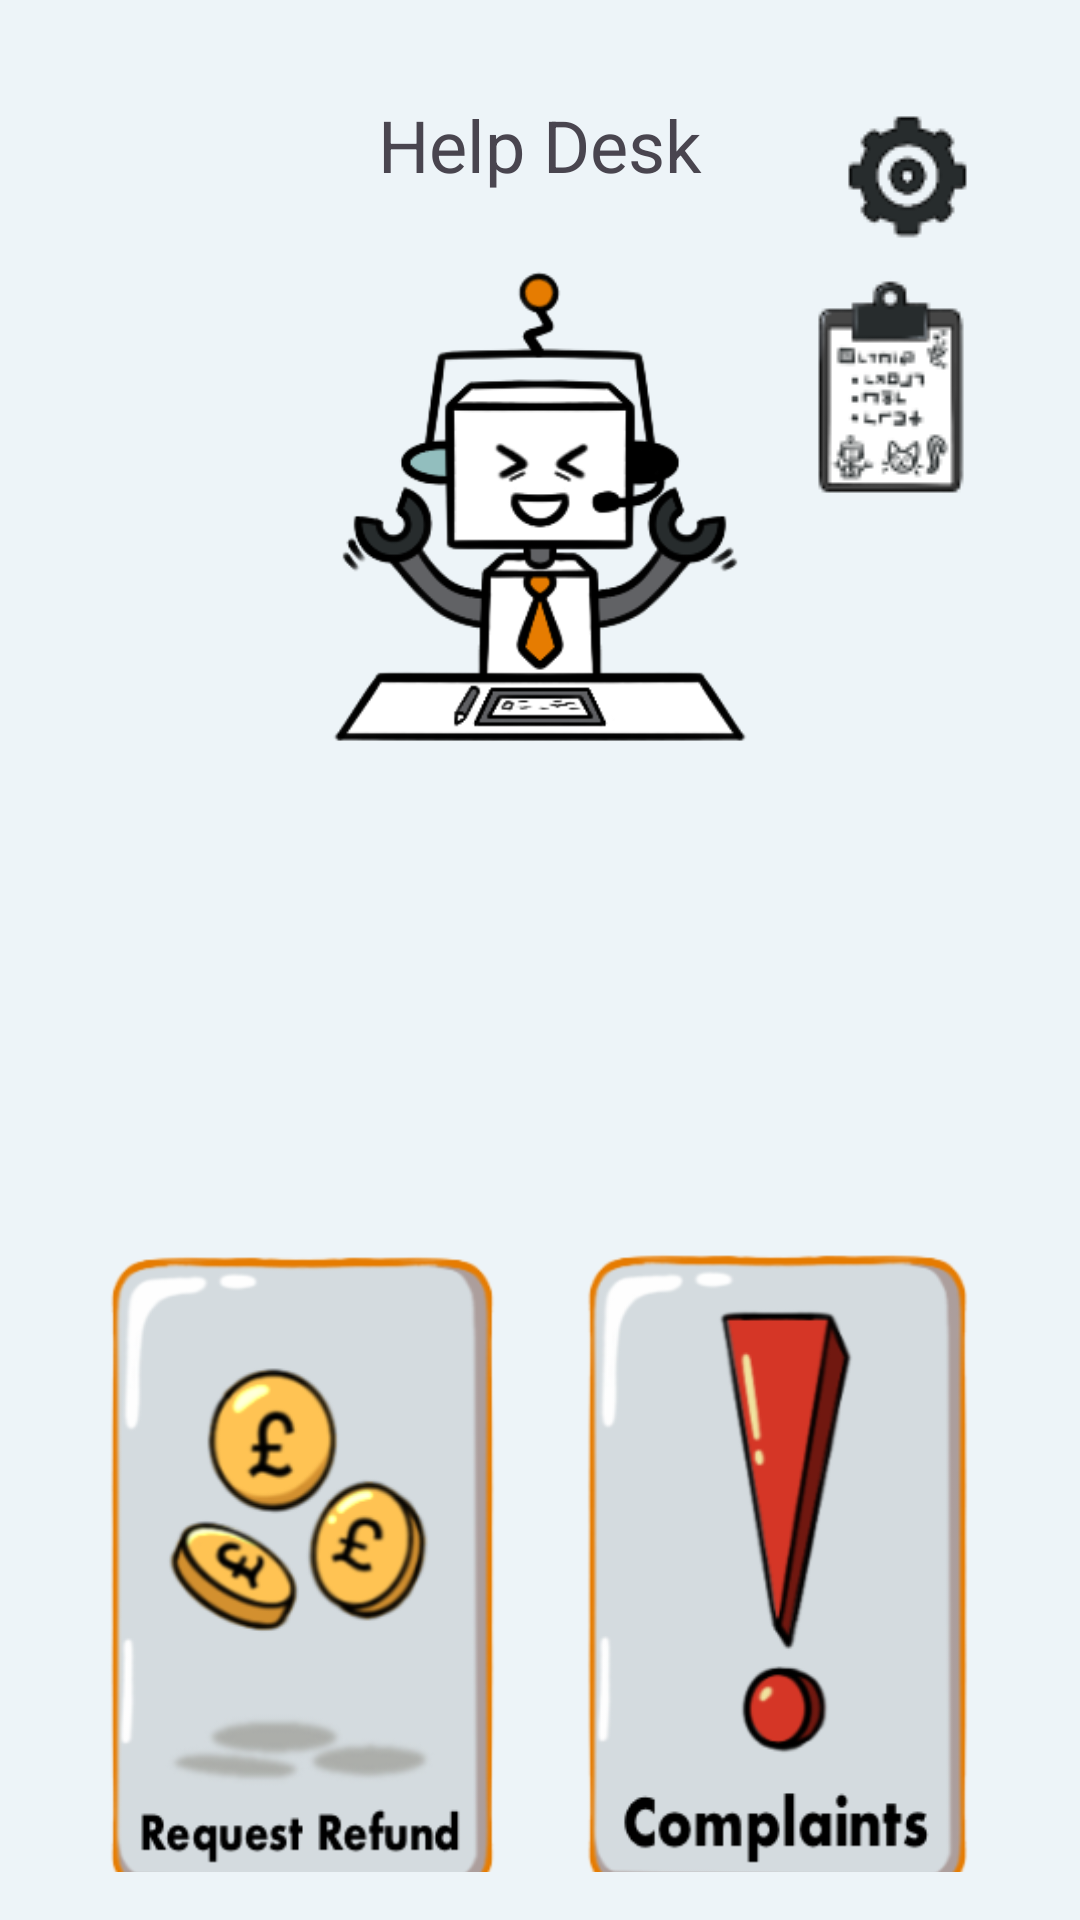

Point at icon controls on the screen. Image size 1080 x 1920, points as [x,y].
Click to go to a page that saves your user details: [891,387]
Click to go to Settings: [907,177]
